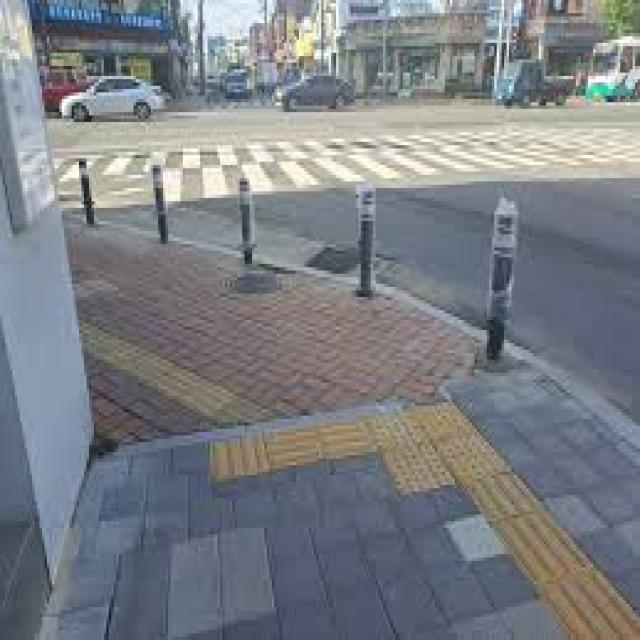bollard: (481, 189, 522, 374), (345, 171, 385, 303), (148, 154, 178, 250), (73, 152, 106, 230), (234, 167, 258, 271)
